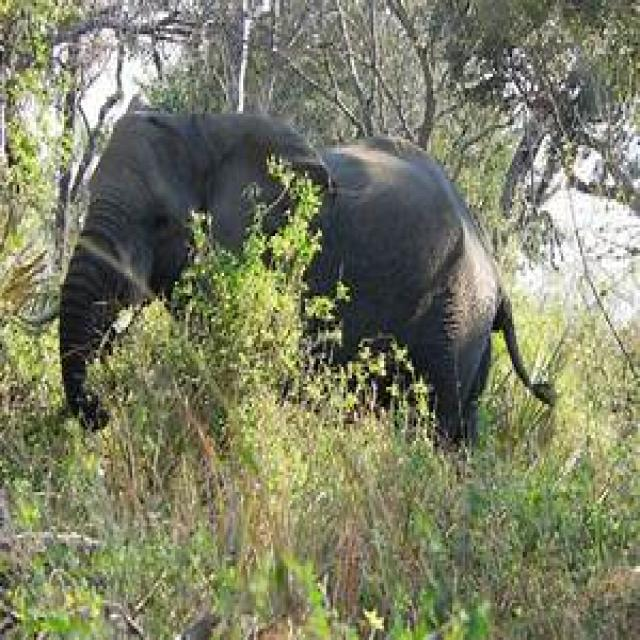elephant: (64, 111, 550, 444)
